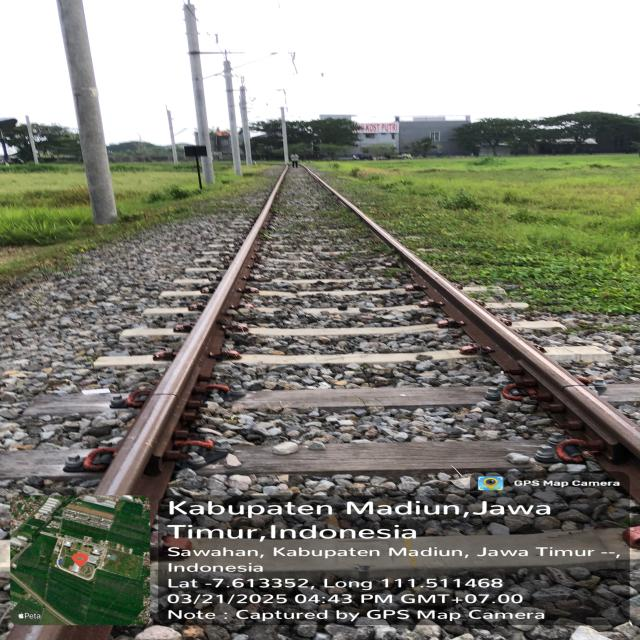rail-detection: (308, 171, 640, 460), (96, 169, 286, 494)
